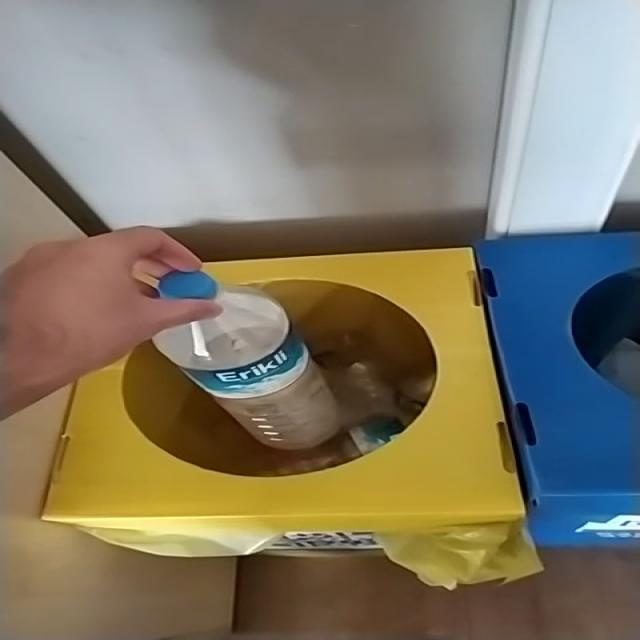bottle: (145, 267, 350, 457)
